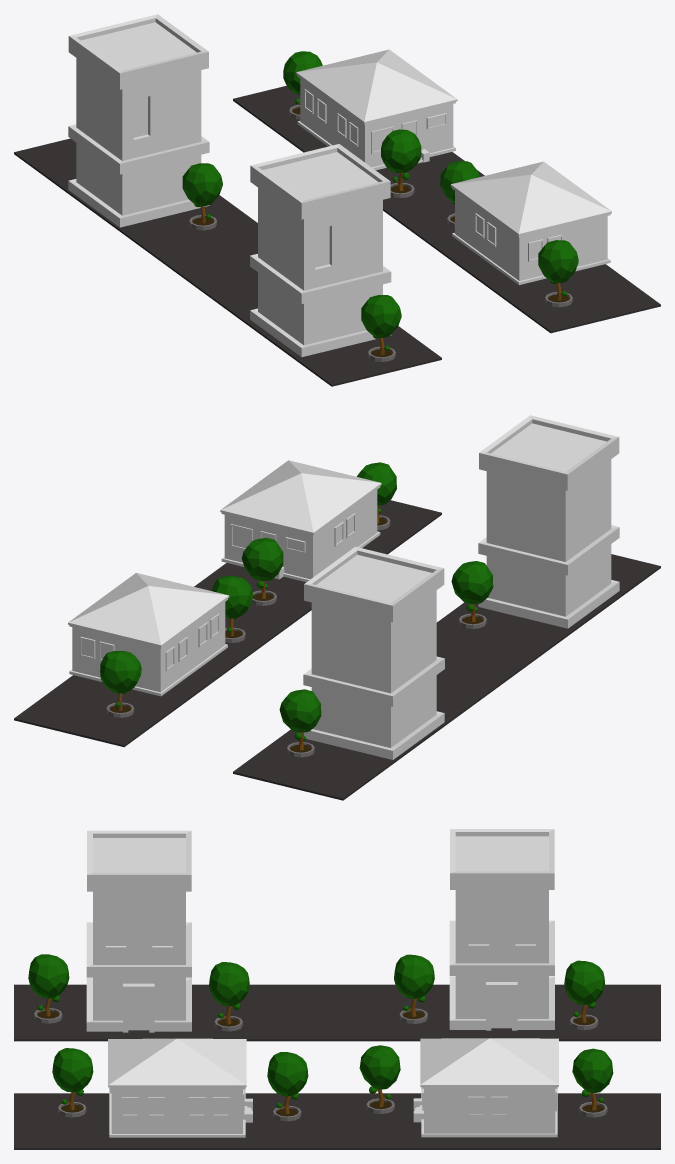
Rendered from taemplate_b_003.fbx.
The picture shows the model from 3 angles, top to bottom: view 1: azimuth 30°, elevation 25°; view 2: azimuth 150°, elevation 25°; view 3: azimuth 270°, elevation 25°; orthographic projection.
Visible parts, largest first — view 1: two-story house.011, two-story house.009, roadside.006, roadside.005, one-story house.010, one-story house.012, tree.023, tree.018, tree.022, tree.020, tree.024, tree.021; view 2: two-story house.009, two-story house.011, roadside.006, roadside.005, one-story house.012, one-story house.010, tree.019, tree.017, tree.021, tree.024, tree.023, tree.022; view 3: roadside.006, roadside.005, two-story house.009, two-story house.011, one-story house.012, one-story house.010, tree.017, tree.019, tree.020, tree.018, tree.022, tree.021 (+2 smaller).
Part boxes in pixels (box(x1,y1,x2,y2)): two-story house.011: box(68, 14, 209, 227); two-story house.009: box(250, 144, 391, 357); roadside.006: box(14, 138, 441, 386); roadside.005: box(233, 85, 660, 333); one-story house.010: box(450, 161, 611, 284); one-story house.012: box(296, 49, 457, 170); tree.023: box(381, 129, 421, 197); tree.018: box(182, 163, 222, 230); tree.022: box(538, 240, 578, 307); tree.020: box(361, 295, 401, 361); tree.024: box(283, 51, 322, 119); tree.021: box(440, 161, 479, 227); two-story house.009: box(478, 415, 619, 628); two-story house.011: box(303, 546, 444, 759); roadside.006: box(233, 554, 660, 800); roadside.005: box(14, 500, 441, 747); one-story house.012: box(68, 573, 229, 696); one-story house.010: box(220, 460, 381, 582); tree.019: box(279, 689, 321, 757); tree.017: box(451, 561, 493, 628); tree.021: box(241, 537, 283, 605); tree.024: box(100, 651, 141, 717); tree.023: box(211, 576, 253, 642); tree.022: box(357, 462, 396, 530); roadside.006: box(14, 984, 660, 1041); roadside.005: box(14, 1093, 660, 1149); two-story house.009: box(86, 830, 191, 1032); two-story house.011: box(449, 829, 554, 1030); one-story house.012: box(413, 1038, 558, 1137); one-story house.010: box(108, 1038, 252, 1137); tree.017: box(209, 962, 249, 1031); tree.019: box(564, 960, 605, 1030); tree.020: box(28, 954, 69, 1023); tree.018: box(394, 954, 434, 1023); tree.022: box(52, 1048, 93, 1117); tree.021: box(267, 1052, 308, 1121).
Size of the model in its own units: 891 by 403 by 1489.
